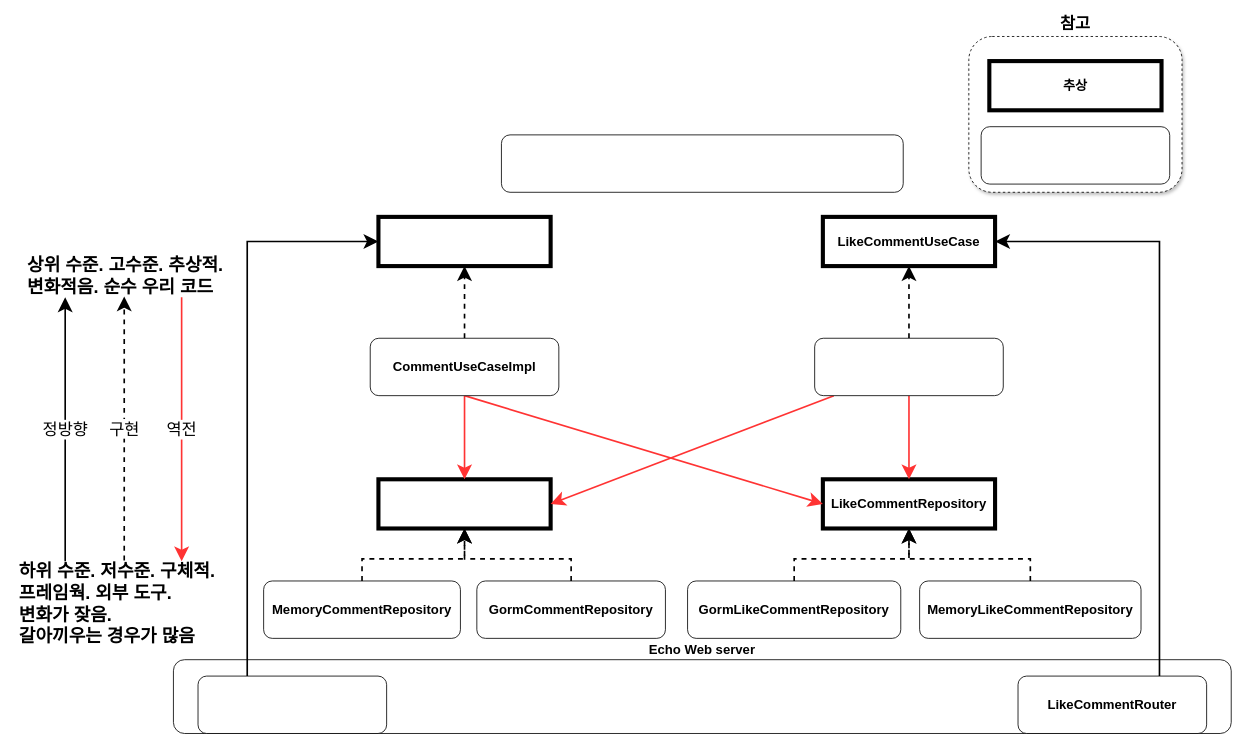
Some shapes in this 1246 by 748 pixel diagram are drawn without their labels. The shapes that lost their labels are listed below. From the top down, each one's centre as x and y in pixels, then its label:
At (x=702, y=163): "Model. 모든 곳에서 사용됨.".
At (x=1075, y=155): "구현체, concrete struct".
At (x=464, y=241): "CommentUseCase".
At (x=908, y=366): "LikeCommentUseCaseImpl".
At (x=464, y=503): "CommentRepository".
At (x=292, y=704): "CommentRouter".
